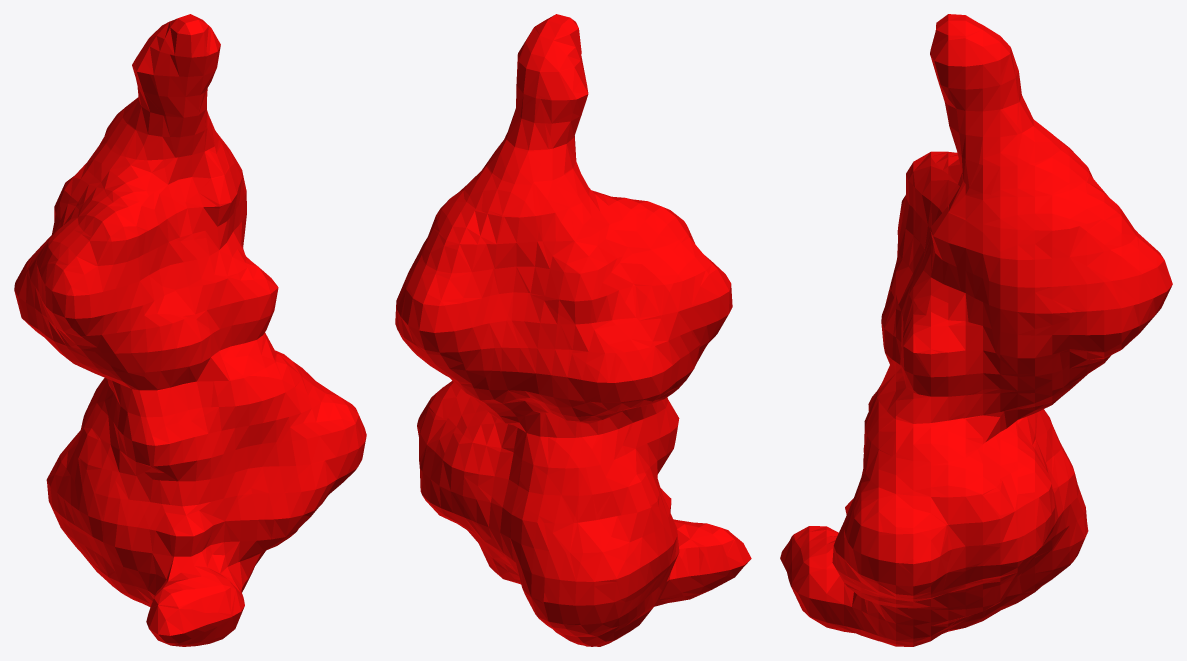
File: grxD_coarse.dae
3 renders of one model, left to right at view 1: azimuth 30°, elevation 25°; view 2: azimuth 150°, elevation 25°; view 3: azimuth 270°, elevation 25°, orthographic. The views are drawn at different scales.
Visible parts, largest first — view 1: grxD; view 2: grxD; view 3: grxD.
Part boxes in pixels (box(x1,y1,x2,y2)): grxD: box(14, 14, 366, 646); grxD: box(395, 14, 751, 646); grxD: box(780, 14, 1172, 646).
Size of the model in its own units: 47.88 by 88.19 by 49.72.
